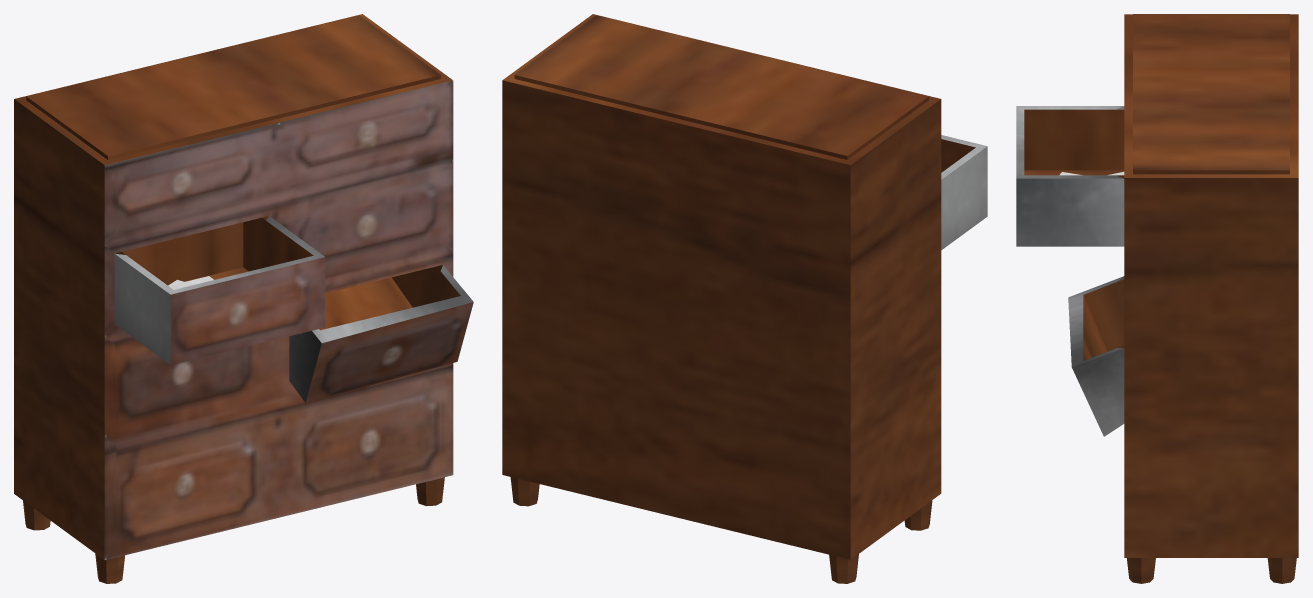
The model's file is OldCupboard.glb.
3 renders of one model, left to right at view 1: azimuth 30°, elevation 25°; view 2: azimuth 150°, elevation 25°; view 3: azimuth 270°, elevation 25°, orthographic. The views are drawn at different scales.
Visible parts, largest first — view 1: Cube; view 2: Cube; view 3: Cube.
Boxes of the visible parts, x1,y1,x2,y2 form: Cube: [14, 14, 473, 583]; Cube: [502, 14, 987, 583]; Cube: [1016, 14, 1298, 583].
Bounding box in the file's own units: 8.06 × 9.46 × 5.88.
Materials: 2 (2 with a texture image).
